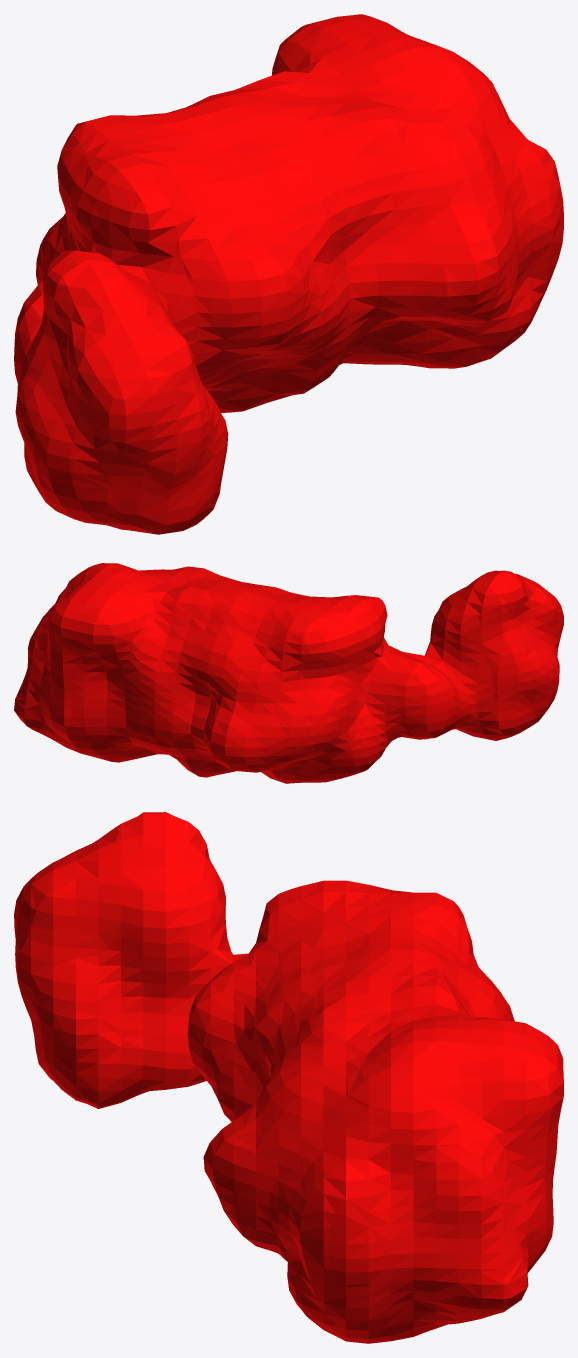
Rendered from ebgR_coarse.dae.
3 views of the same model, one above another, from view 1: azimuth 30°, elevation 25°; view 2: azimuth 150°, elevation 25°; view 3: azimuth 270°, elevation 25° (orthographic). The views are drawn at different scales.
Visible parts, largest first — view 1: ebgR; view 2: ebgR; view 3: ebgR.
Boxes of the visible parts, x1,y1,x2,y2 form: ebgR: (14,14,563,534); ebgR: (14,563,563,783); ebgR: (14,812,563,1343).
Bounding box in the file's own units: 83.54 × 37.67 × 63.49.
